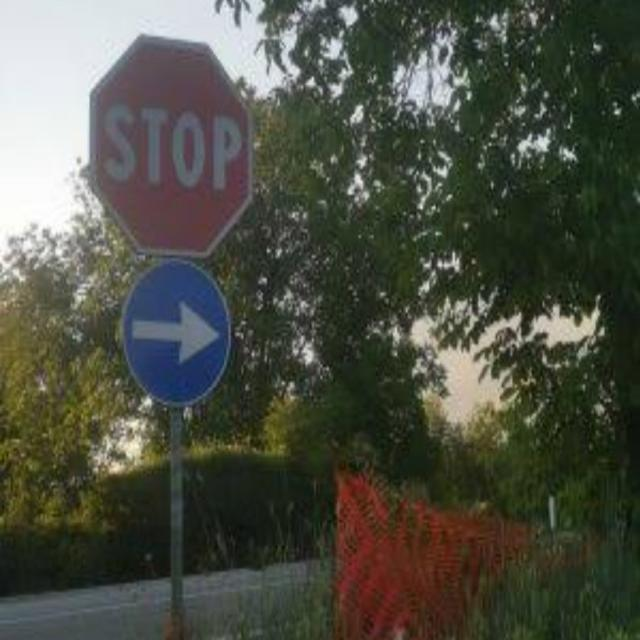Turn Right: (127, 263, 233, 405)
